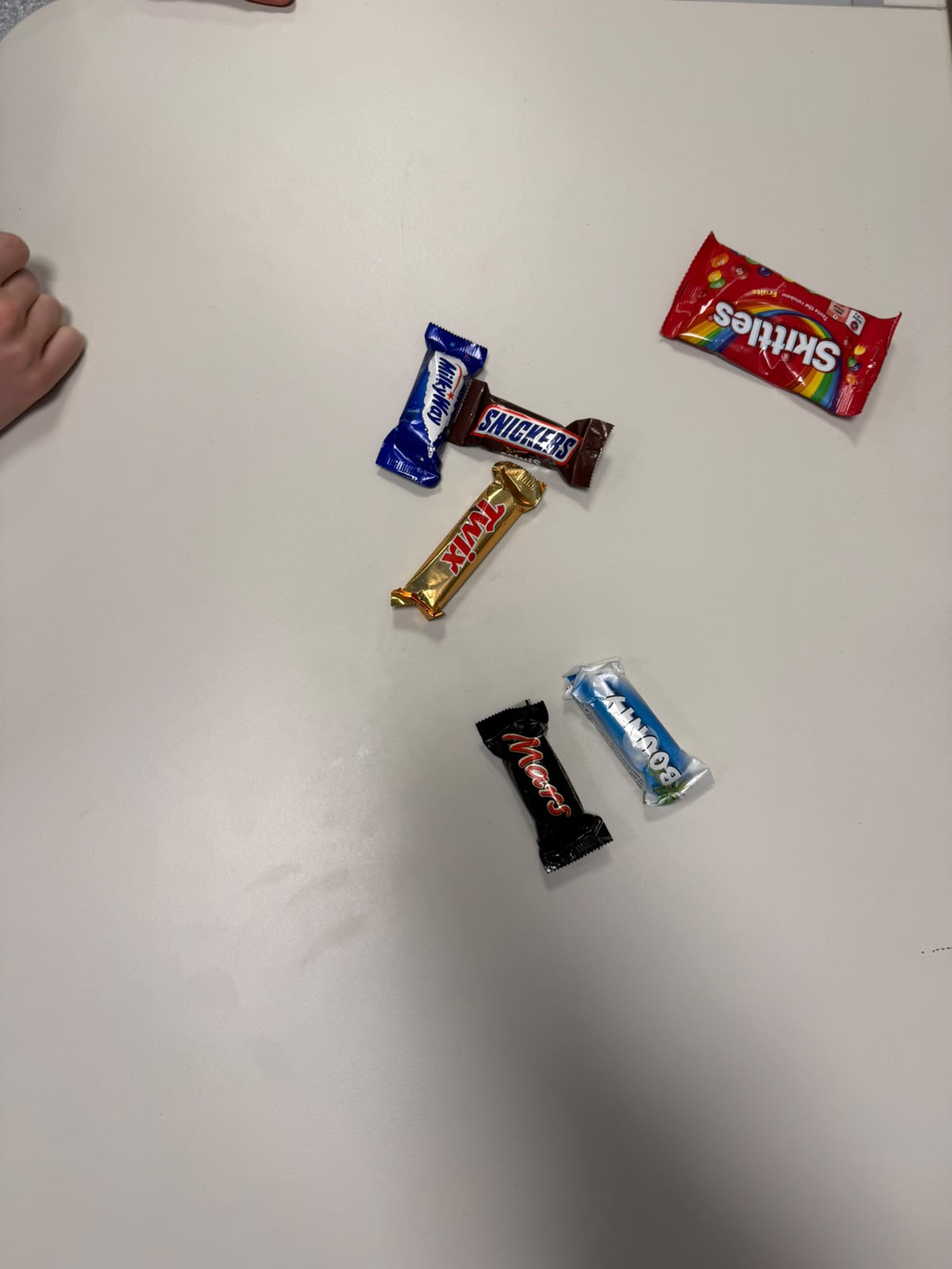Bounty: (543, 661, 618, 870)
Mars: (467, 715, 539, 921)
MilkyWay: (441, 296, 507, 488)
Skittles: (705, 215, 937, 355)
Snickers: (478, 373, 628, 448)
Twix: (505, 457, 565, 650)
